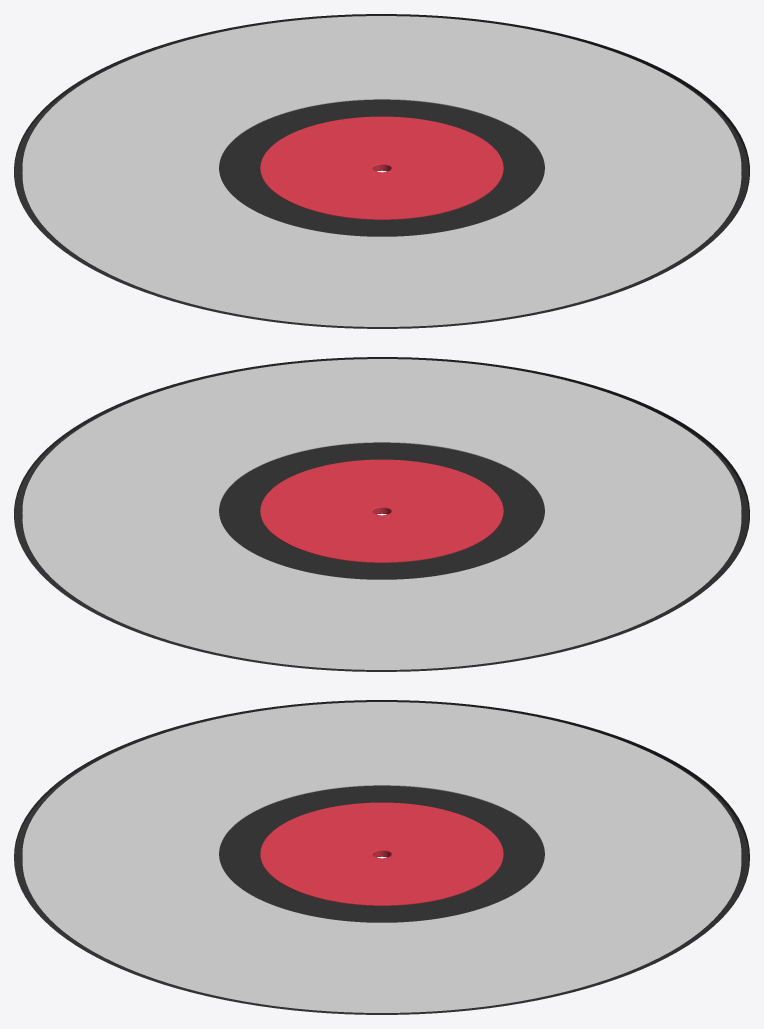
Rendered from vinyl.glb.
The picture shows the model from 3 angles, top to bottom: view 1: azimuth 30°, elevation 25°; view 2: azimuth 150°, elevation 25°; view 3: azimuth 270°, elevation 25°; orthographic projection.
Visible parts, largest first — view 1: Circle.001; view 2: Circle.001; view 3: Circle.001.
Boxes of the visible parts, x1,y1,x2,y2 form: Circle.001: (14, 14, 749, 328); Circle.001: (14, 357, 749, 671); Circle.001: (14, 700, 749, 1014).
Bounding box in the file's own units: 2 × 0.0215 × 2.
